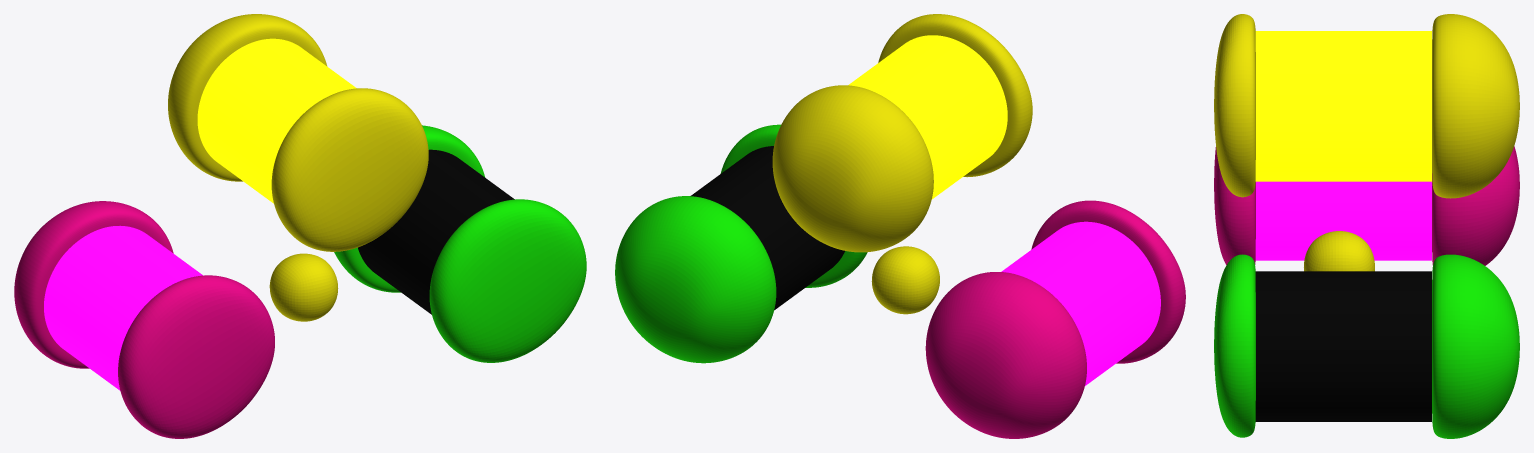
Rendered from 2_3_Orbes_Ro_Ama.fbx.
3 views of the same model, side by side, from view 1: azimuth 30°, elevation 25°; view 2: azimuth 150°, elevation 25°; view 3: azimuth 270°, elevation 25° (orthographic). The views are drawn at different scales.
Visible parts, largest first — view 1: Cubo; view 2: Cubo; view 3: Cubo.
Part boxes in pixels (x1=…): Cubo: x1=14, y1=14, x2=586, y2=438; Cubo: x1=615, y1=14, x2=1185, y2=438; Cubo: x1=1214, y1=14, x2=1519, y2=438.
Bounding box in the file's own units: 73.32 × 46.6 × 39.58.
